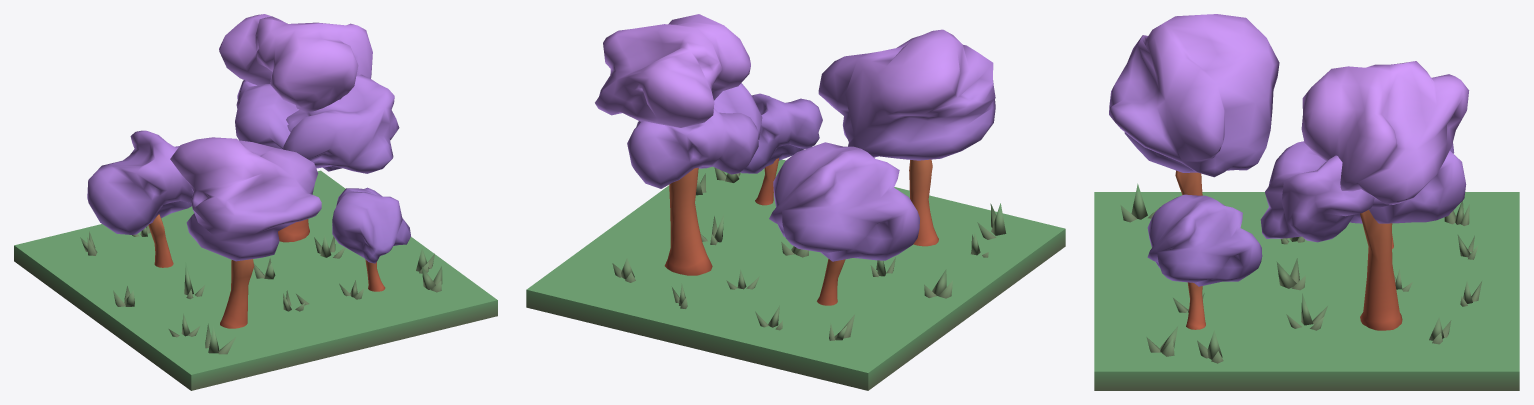
The model's file is grass-trees-tall.glb.
3 views of the same model, side by side, from view 1: azimuth 30°, elevation 25°; view 2: azimuth 150°, elevation 25°; view 3: azimuth 270°, elevation 25° (orthographic). The views are drawn at different scales.
Parts seen in each view (by area): view 1: grass-trees-tall; view 2: grass-trees-tall; view 3: grass-trees-tall.
Boxes of the visible parts, x1,y1,x2,y2 form: grass-trees-tall: (14,14,497,390); grass-trees-tall: (526,14,1065,390); grass-trees-tall: (1094,14,1519,390).
Bounding box in the file's own units: 1 × 0.7031 × 1.
Materials: 1 (1 with a texture image).
